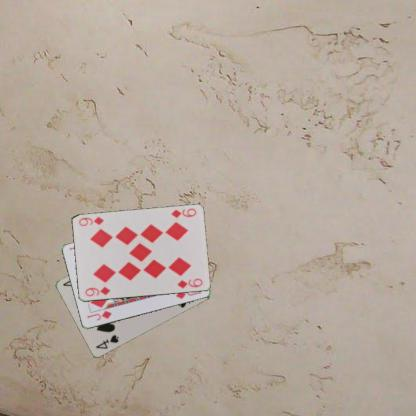4s: (93, 332, 120, 350)
9d: (82, 284, 112, 298), (169, 206, 197, 220)
Jd: (84, 308, 113, 322)
